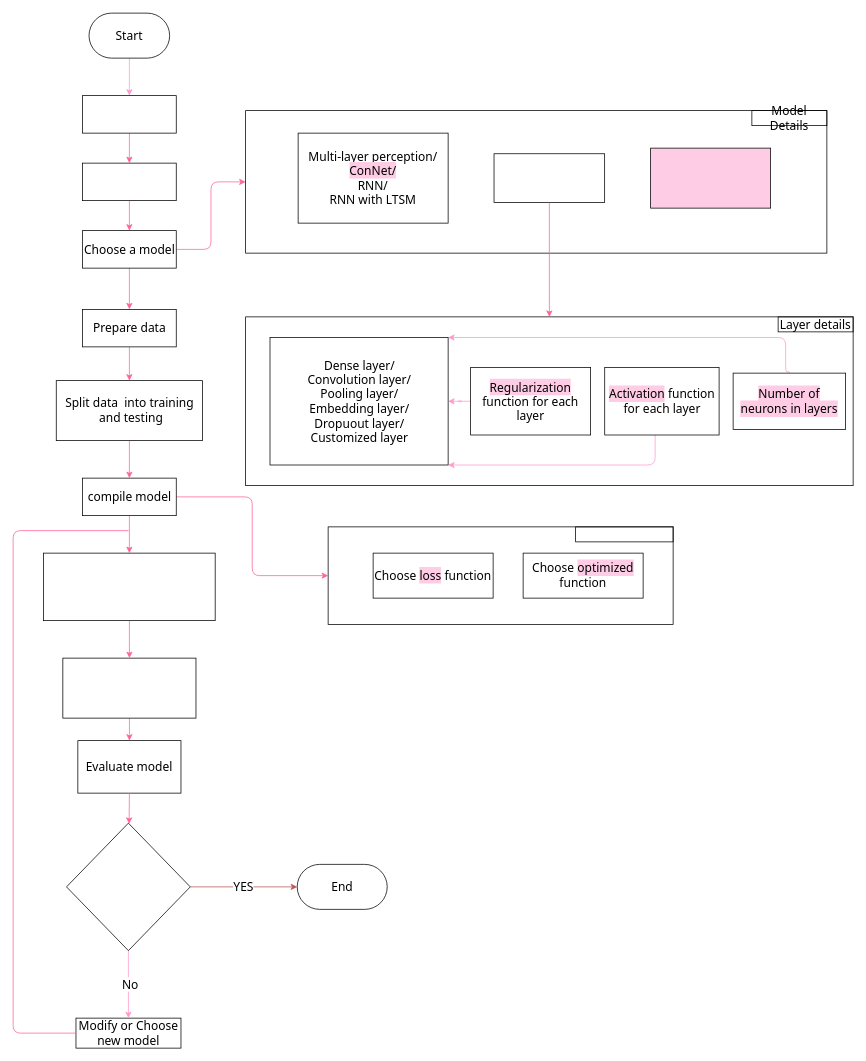
Image size: 866x1061. Some labels were removed from this diagram. Each missing label, with the centre of its shape:
"Analyze data" goes at (x=129, y=181).
"Collect data" goes at (x=129, y=114).
"Compile details" goes at (x=624, y=534).
"Feature set with proper initalizer" goes at (x=710, y=177).
"Fit the model with data [Set epoch and batch size]" goes at (x=129, y=586).
"is model fine?" goes at (x=128, y=886).
"Number of layer" goes at (x=549, y=177).
"Predict for new data" goes at (x=129, y=687).
